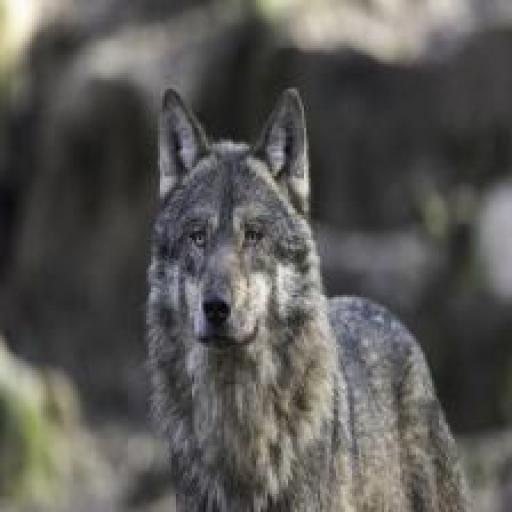wolf: (128, 80, 489, 511)
